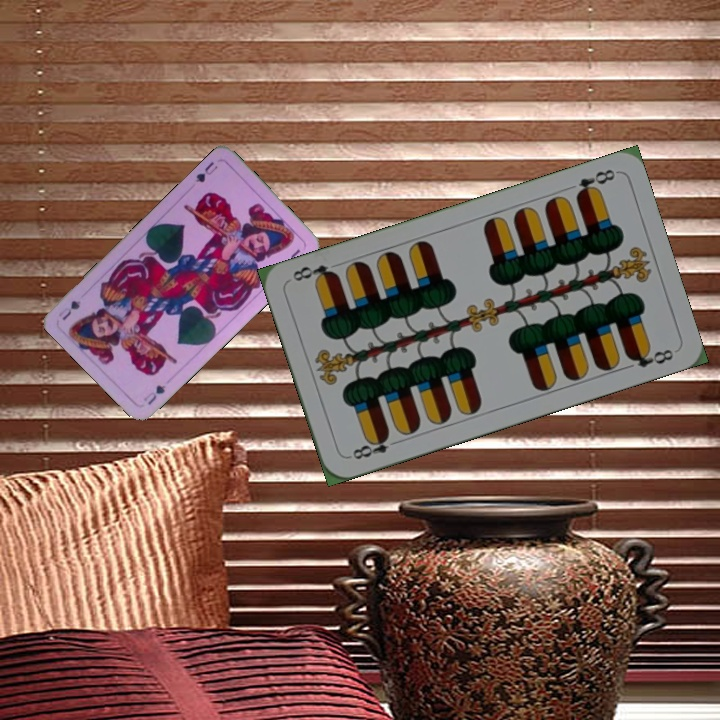E8: (344, 429, 402, 462), (572, 165, 618, 201)
GU: (191, 157, 221, 185), (139, 381, 168, 408)
